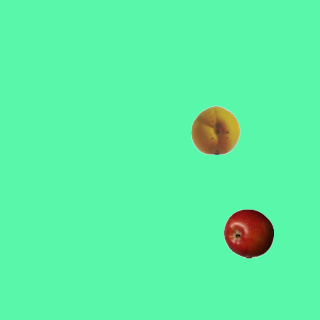Apple Braeburn: (223, 208, 273, 258)
Peach 2: (190, 104, 240, 154)
